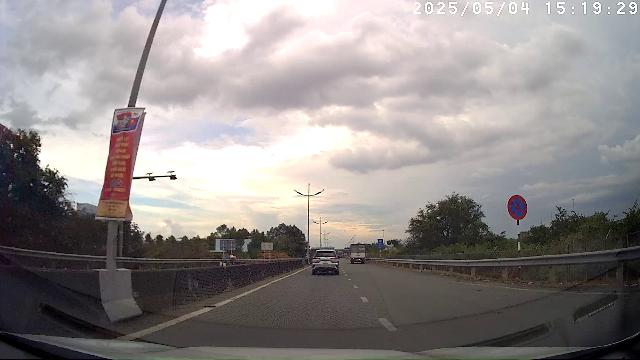130-cam-dung-va-do-xe: (508, 194, 528, 220)
